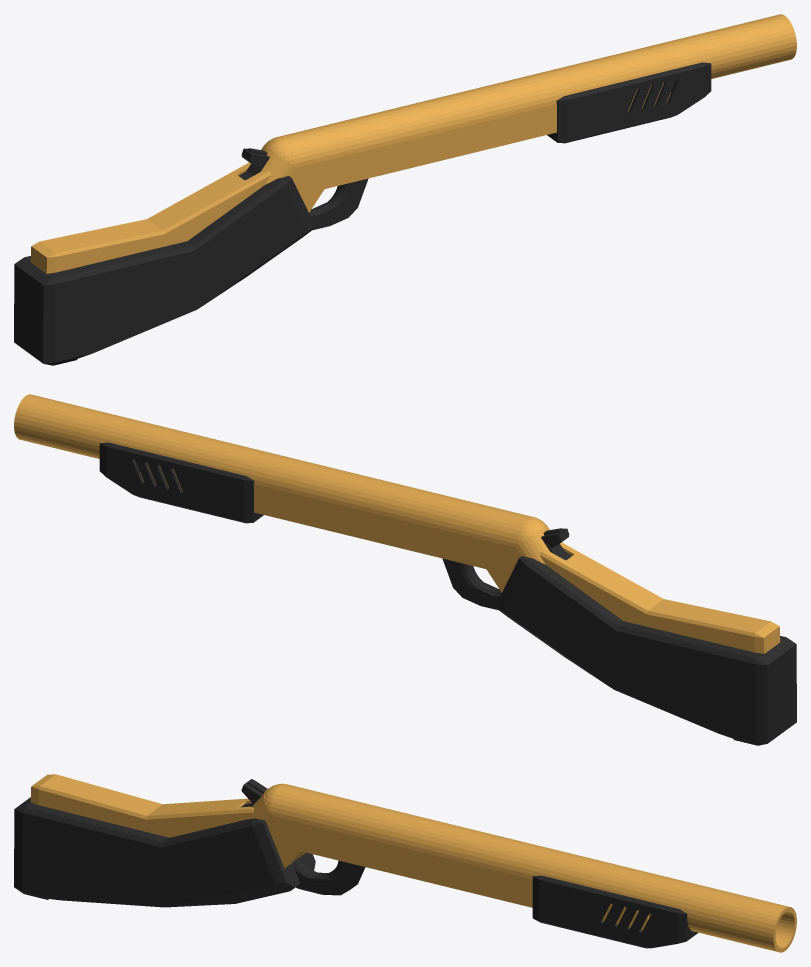
File: shotgun.fbx
3 renders of one model, top to bottom at view 1: azimuth 30°, elevation 25°; view 2: azimuth 150°, elevation 25°; view 3: azimuth 330°, elevation 25°, orthographic.
Parts seen in each view (by area): view 1: Cube.015; view 2: Cube.015; view 3: Cube.015.
Boxes of the visible parts, x1,y1,x2,y2 form: Cube.015: [14, 14, 796, 365]; Cube.015: [14, 394, 796, 745]; Cube.015: [14, 774, 796, 952].
Bounding box in the file's own units: 2686 × 533 × 200.
